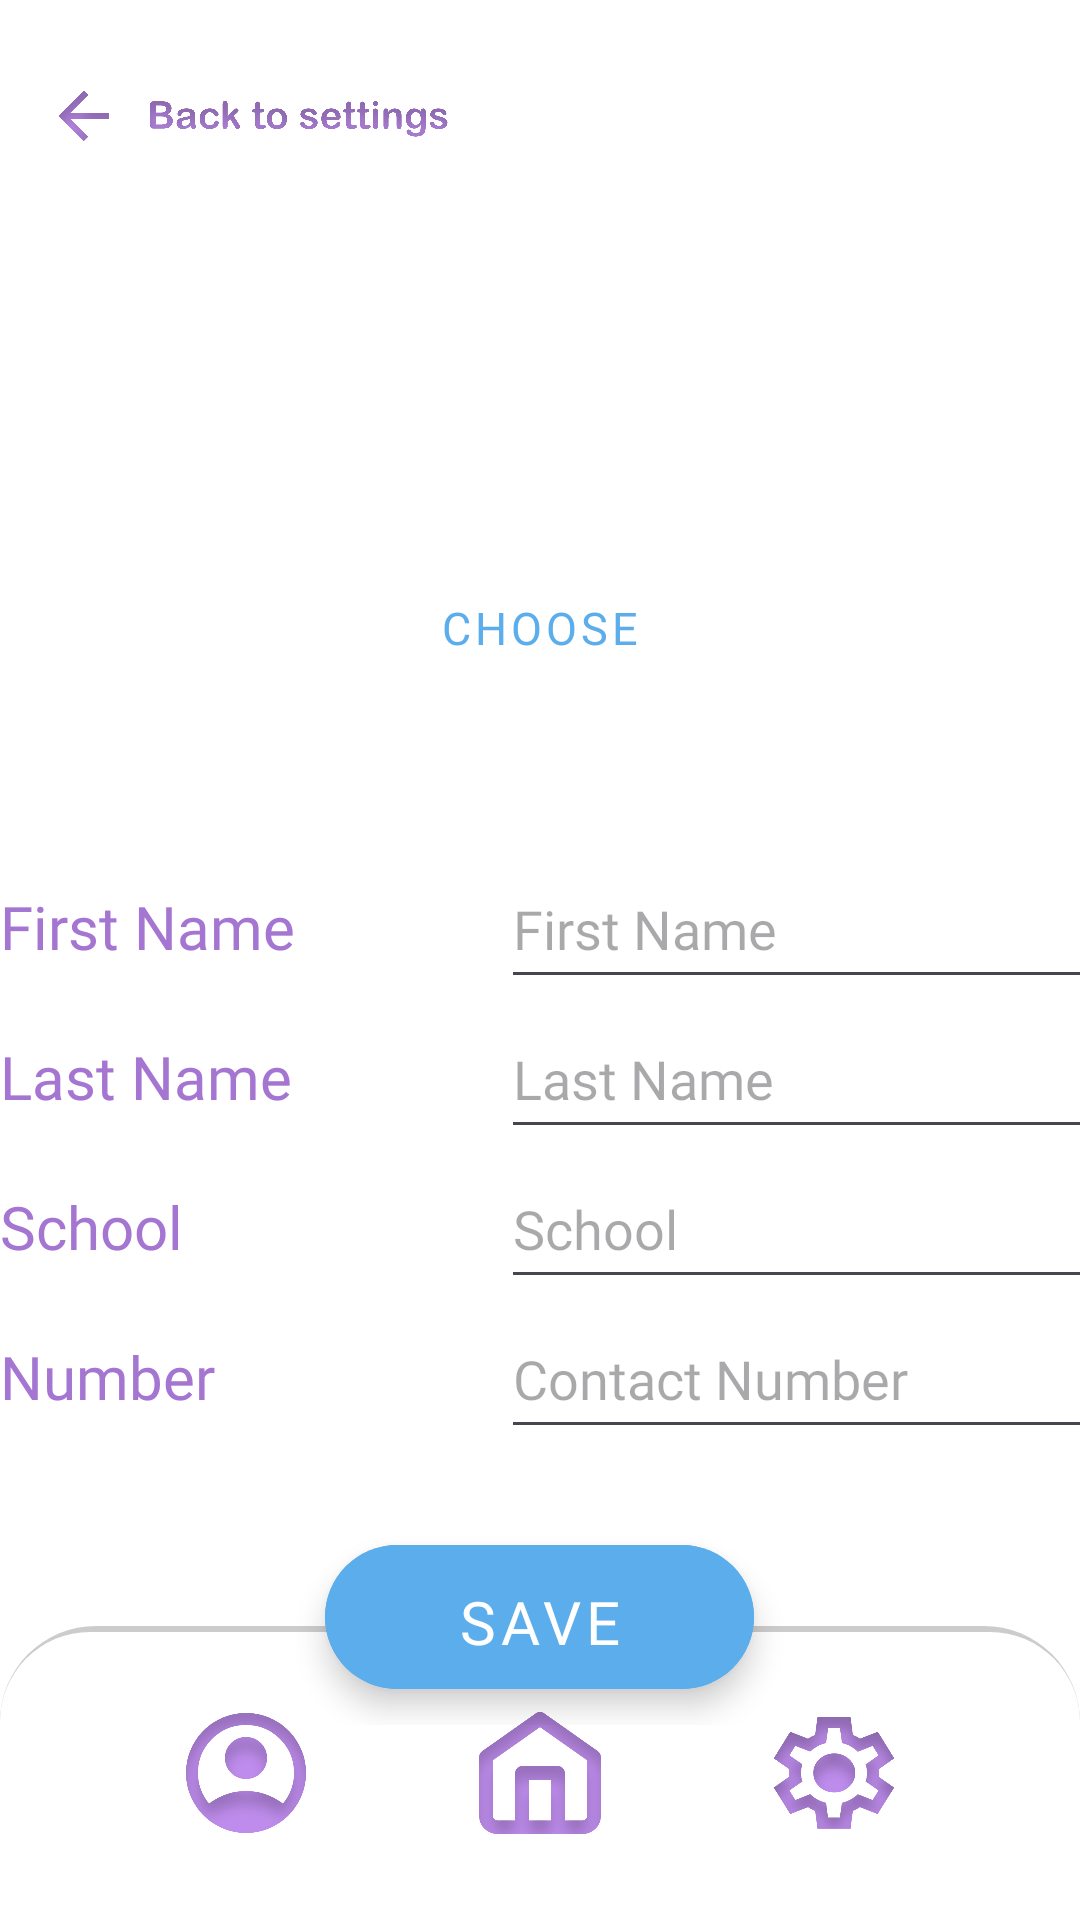

Where to tap for icons on this 1080*1920 app screen, as (x=x, y=y):
home: (x=540, y=1773)
profile: (x=246, y=1773)
settings: (x=834, y=1773)
